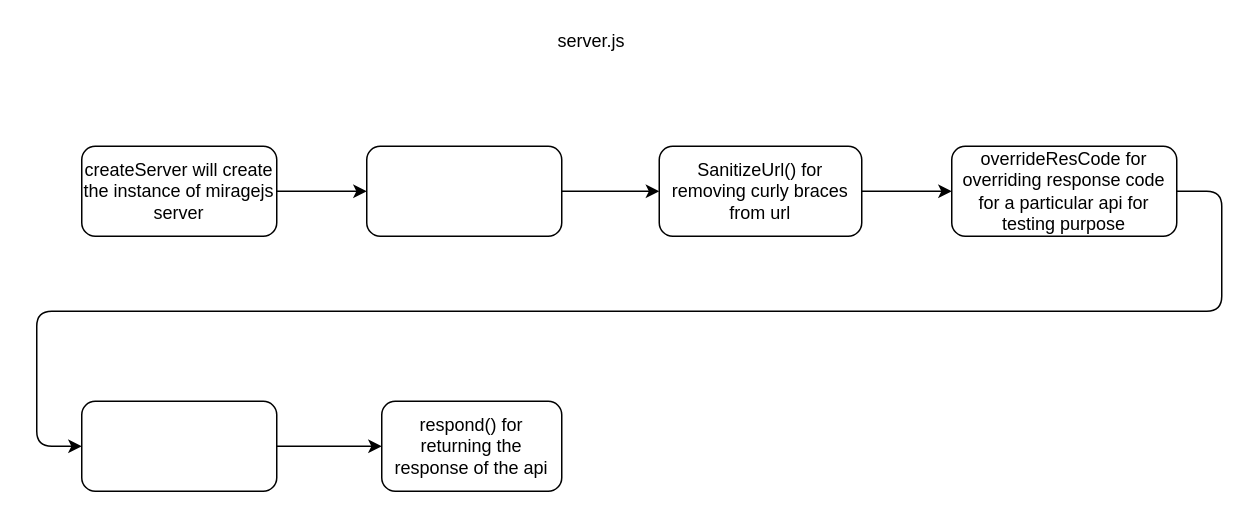
Some shapes in this 1260 by 518 pixel diagram are drawn without their labels. The shapes that lost their labels are listed below. From the top down, each one's box as (x1, y1, x2, y2) in pixels, then its label:
(365, 145, 562, 236): routes() will contain all the endpoint that will be dynamically created here
(80, 400, 277, 491): sanitizeResponseBody for resolving the #ref for the response
